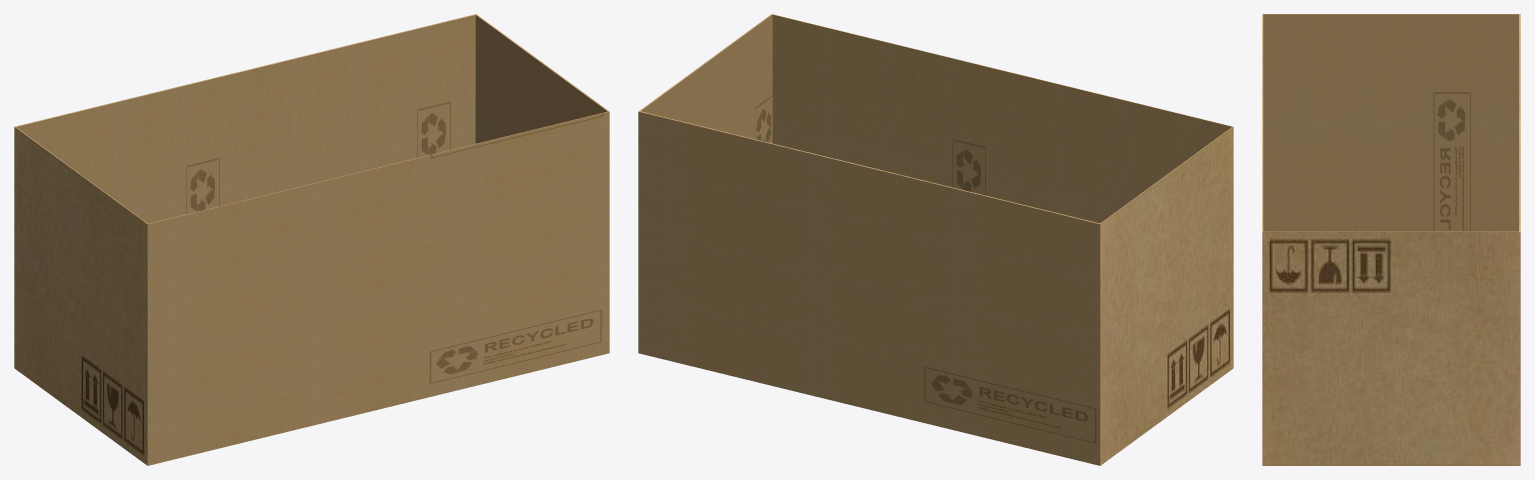
3 renders of one model, left to right at view 1: azimuth 30°, elevation 25°; view 2: azimuth 150°, elevation 25°; view 3: azimuth 270°, elevation 25°, orthographic. The views are drawn at different scales.
Parts seen in each view (by area): view 1: root; view 2: root; view 3: root.
Boxes of the visible parts, bbox=[...] form: root: bbox=[14, 14, 609, 465]; root: bbox=[638, 14, 1233, 465]; root: bbox=[1262, 14, 1520, 465].
Bounding box in the file's own units: 1 × 0.5 × 0.5.
Materials: 2 (2 with a texture image).
